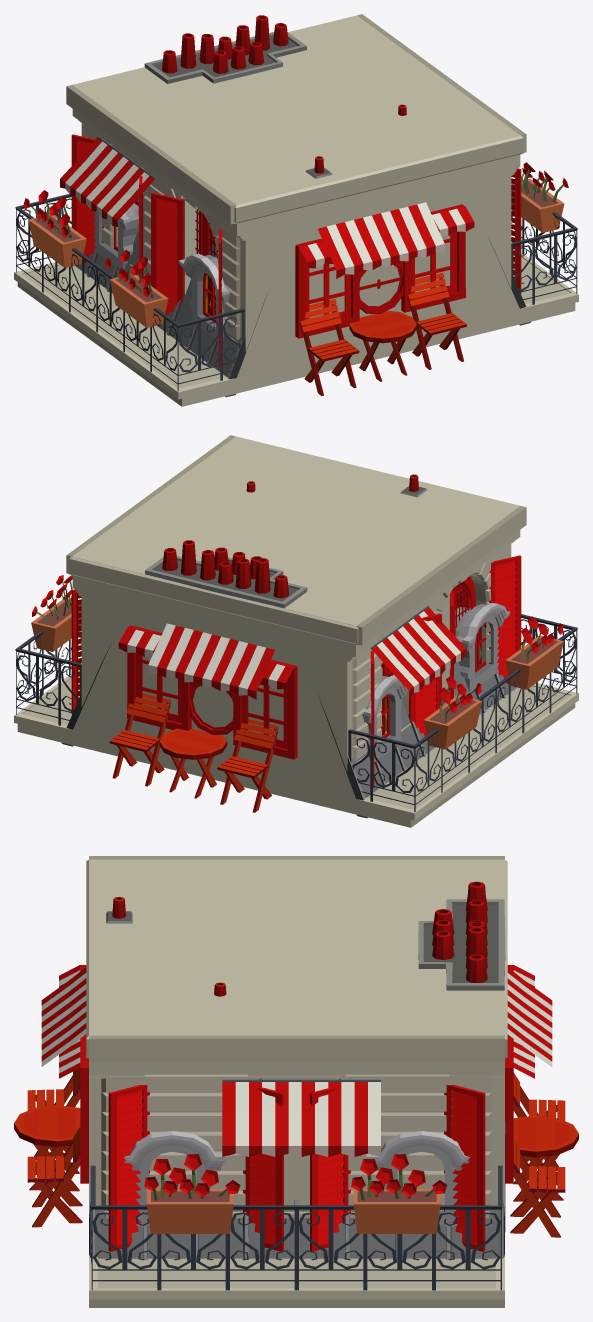
The picture shows the model from 3 angles, top to bottom: view 1: azimuth 30°, elevation 25°; view 2: azimuth 150°, elevation 25°; view 3: azimuth 270°, elevation 25°; orthographic projection. The views are drawn at different scales.
Parts seen in each view (by area): view 1: frenchBase, frenchMid, frenchRoof, flowers.004, flowers.002, chairWood, chairWood.001, table, flowers.003; view 2: frenchBase, frenchMid, frenchRoof, chairWood.011, chairWood.010, flowers.004, flowers.002, table.005, flowers.005; view 3: frenchBase, frenchMid, frenchRoof, flowers.005, flowers.003, chairWood.001, chairWood.010, table, table.005, chairWood, chairWood.011.
Part boxes in pixels (<box>): frenchBase: <box>60,15,523,342</box>; frenchMid: <box>14,14,578,406</box>; frenchRoof: <box>75,15,530,397</box>; flowers.004: <box>23,190,86,267</box>; flowers.002: <box>105,250,168,327</box>; chairWood: <box>300,299,359,395</box>; chairWood.001: <box>408,272,466,369</box>; table: <box>349,310,416,381</box>; flowers.003: <box>511,162,568,232</box>; frenchBase: <box>69,436,520,763</box>; frenchMid: <box>14,435,578,827</box>; frenchRoof: <box>62,540,516,818</box>; chairWood.011: <box>217,719,278,812</box>; chairWood.010: <box>109,693,170,786</box>; flowers.004: <box>423,676,482,749</box>; flowers.002: <box>505,616,563,689</box>; table.005: <box>159,728,227,798</box>; flowers.005: <box>31,575,81,651</box>; frenchBase: <box>41,859,552,1218</box>; frenchMid: <box>59,856,534,1307</box>; frenchRoof: <box>89,881,505,1259</box>; flowers.005: <box>351,1154,447,1233</box>; flowers.003: <box>144,1154,240,1233</box>; chairWood.001: <box>27,1127,82,1227</box>; chairWood.010: <box>510,1139,565,1237</box>; table: <box>14,1105,80,1191</box>; table.005: <box>513,1115,578,1201</box>; chairWood: <box>27,1068,80,1160</box>; chairWood.011: <box>513,1072,565,1170</box>.
Size of the model in its own units: 1.19 by 0.5886 by 1.07.
